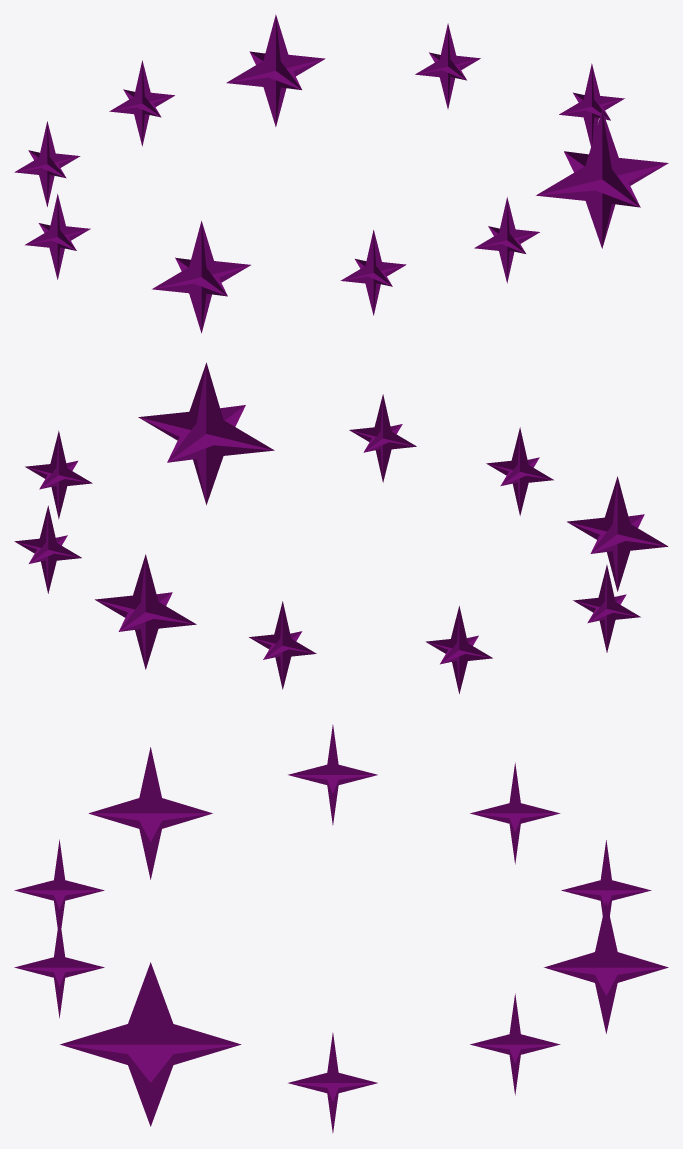
File: model_3094_spotanim.obj
3 renders of one model, top to bottom at view 1: azimuth 30°, elevation 25°; view 2: azimuth 150°, elevation 25°; view 3: azimuth 270°, elevation 25°, orthographic. The views are drawn at different scales.
Visible parts, largest first — view 1: 3094; view 2: 3094; view 3: 3094.
Boxes of the visible parts, x1,y1,x2,y2 form: 3094: (14, 14, 668, 333); 3094: (14, 362, 668, 693); 3094: (14, 724, 668, 1133).
Size of the model in its own units: 144 by 32 by 115.
